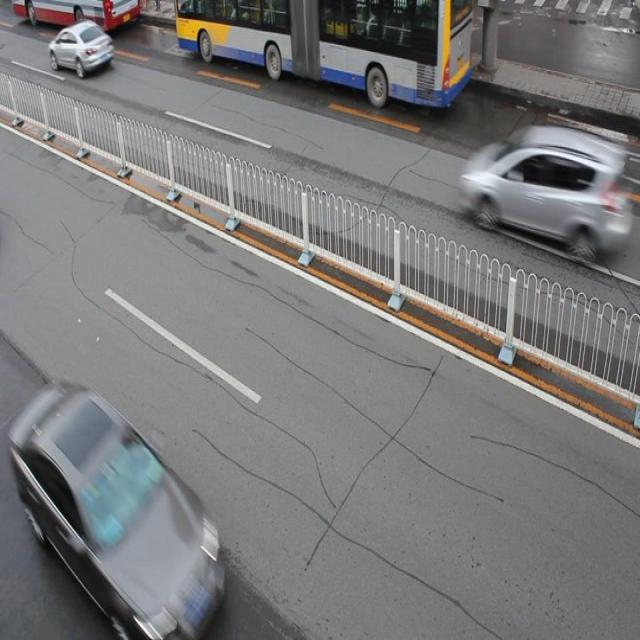car: (20, 381, 227, 622), (464, 124, 607, 252), (47, 18, 114, 78)
van: (175, 1, 473, 108), (12, 1, 141, 31)
